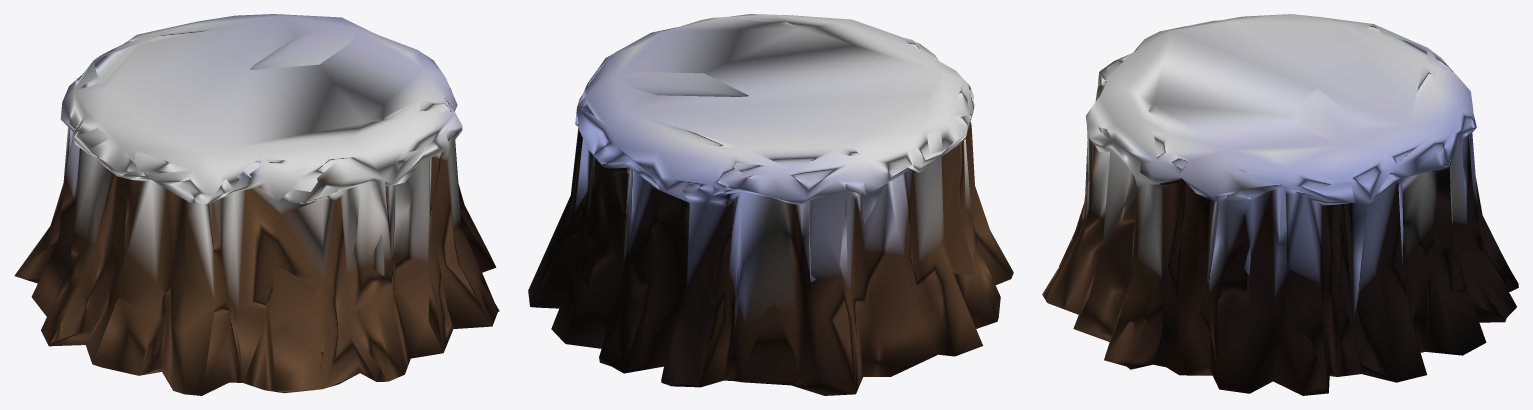
Rendered from gen3d-snowy-stump-lod1.glb.
3 views of the same model, side by side, from view 1: azimuth 30°, elevation 25°; view 2: azimuth 150°, elevation 25°; view 3: azimuth 270°, elevation 25° (orthographic).
Parts seen in each view (by area): view 1: part_0; view 2: part_0; view 3: part_0.
Part boxes in pixels (x1,y1,x2,y2): part_0: (14, 14, 499, 395); part_0: (528, 14, 1013, 395); part_0: (1042, 14, 1518, 395).
Bounding box in the file's own units: 2.09 × 0.9964 × 2.05.
